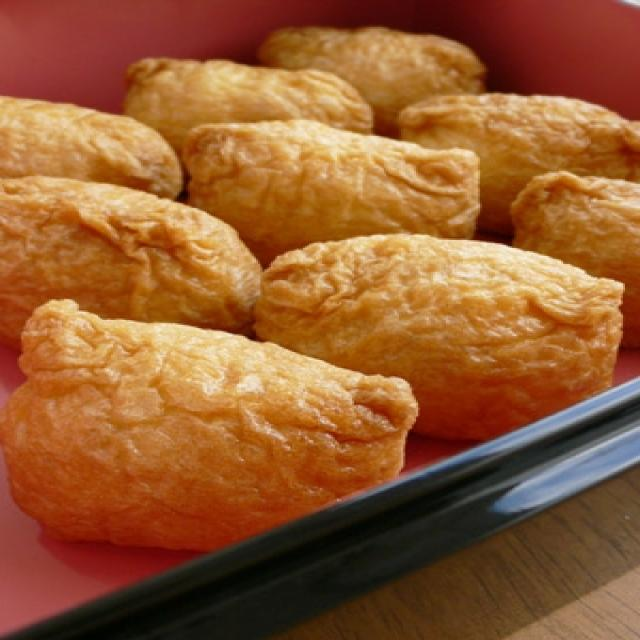寿司卷物: (11, 24, 612, 589)
